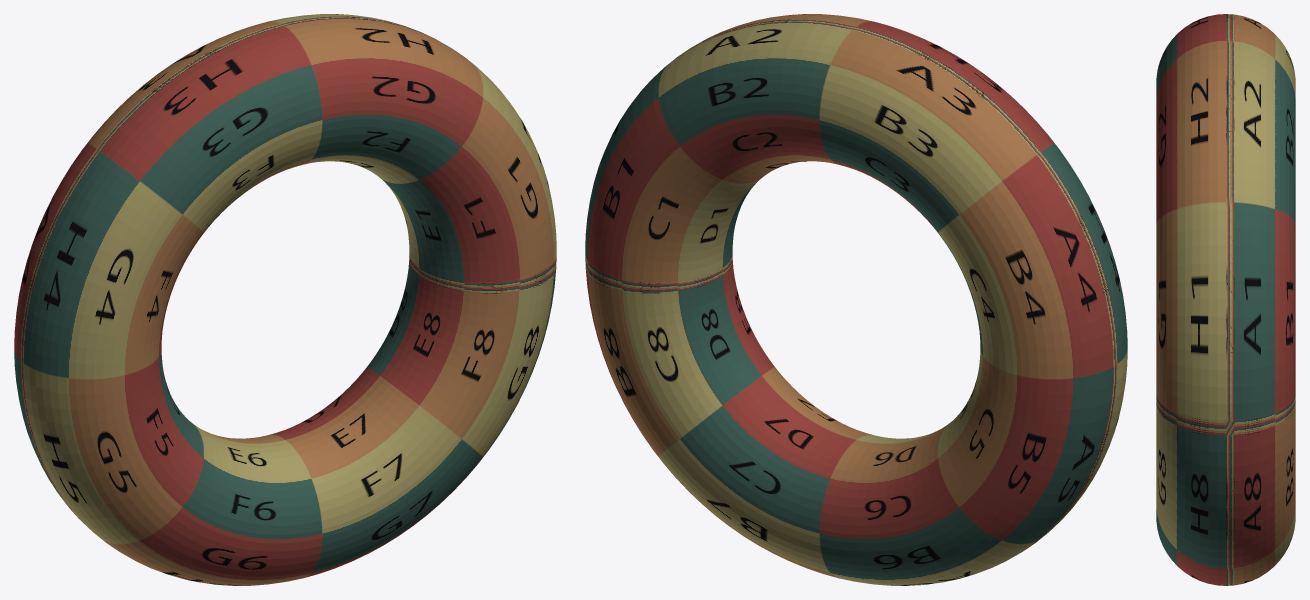
The model's file is texture_torus_R2_r3.glb.
3 renders of one model, left to right at view 1: azimuth 30°, elevation 25°; view 2: azimuth 150°, elevation 25°; view 3: azimuth 270°, elevation 25°, orthographic. The views are drawn at different scales.
Parts seen in each view (by area): view 1: world; view 2: world; view 3: world.
Part boxes in pixels (x1,y1,x2,y2): world: [14, 14, 556, 585]; world: [585, 14, 1127, 585]; world: [1156, 14, 1295, 585].
Size of the model in its own units: 19.11 by 19.11 by 4.66.
Materials: 1 (1 with a texture image).
